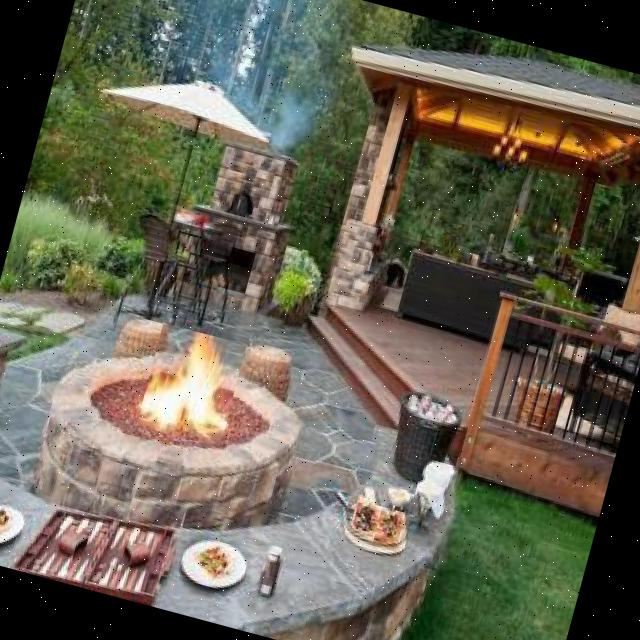fire: (136, 322, 247, 448)
